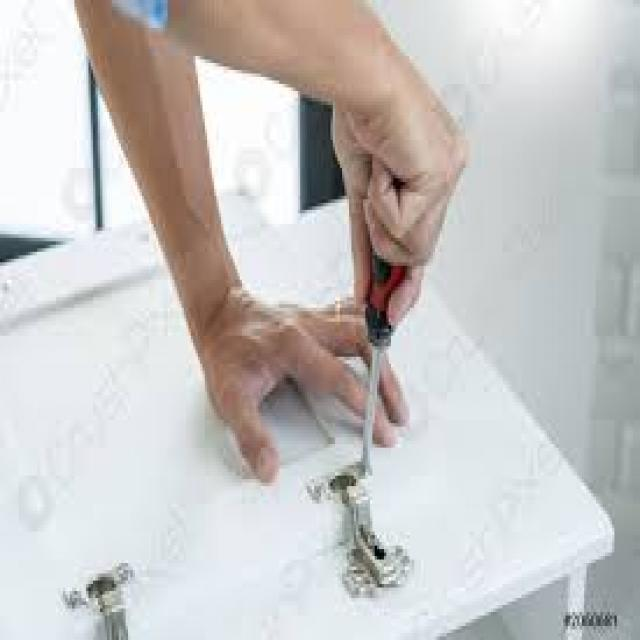screwdriver: (358, 220, 409, 479)
